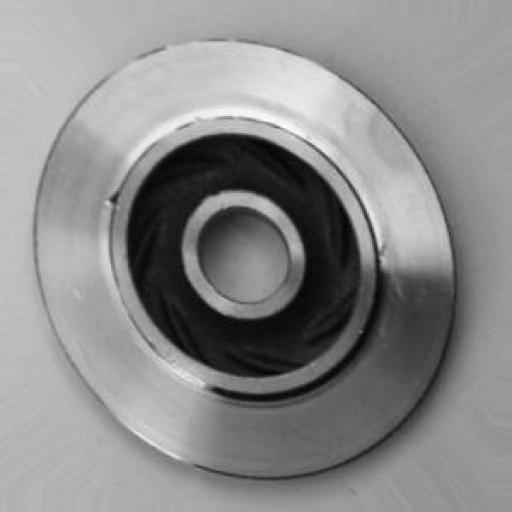defect: (90, 174, 137, 226)
